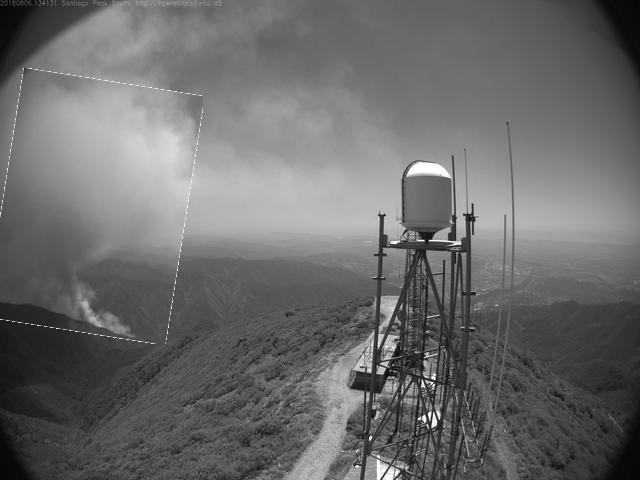smoke: (1, 75, 196, 341)
